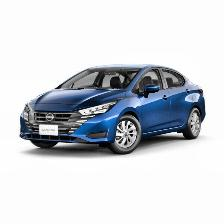NON-EV: (21, 66, 209, 156)
